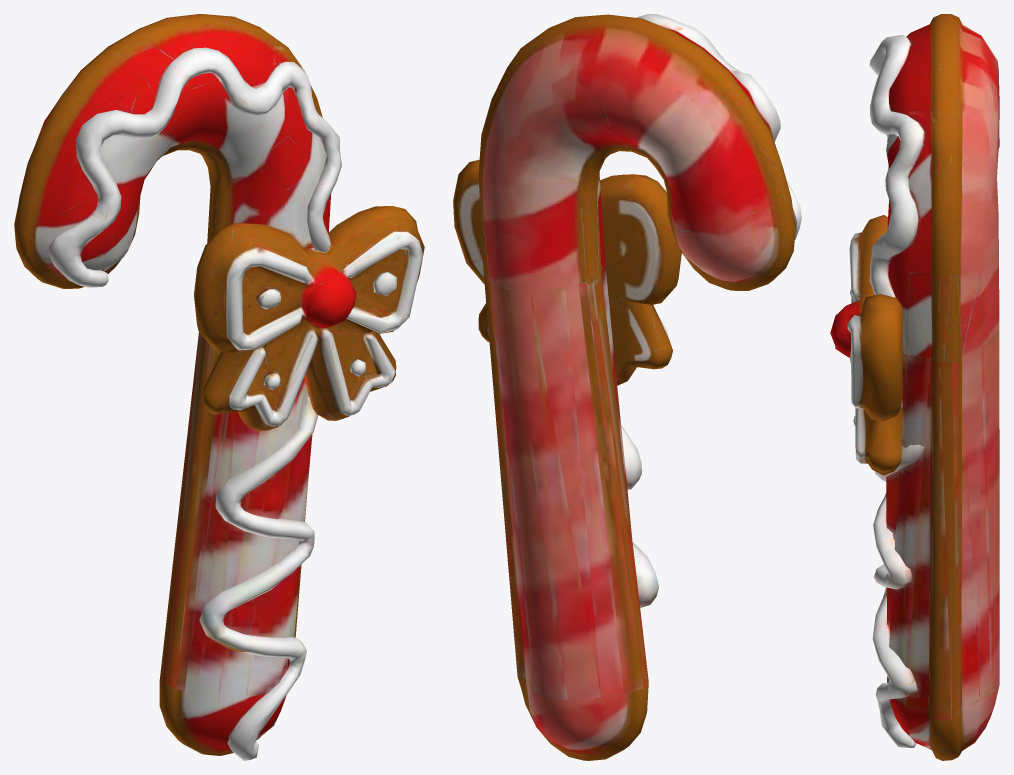
Rendered from cane.glb.
3 views of the same model, side by side, from view 1: azimuth 30°, elevation 25°; view 2: azimuth 150°, elevation 25°; view 3: azimuth 270°, elevation 25° (orthographic). The views are drawn at different scales.
Bounding box in the file's own units: 0.4936 × 0.9507 × 0.2075.
Materials: 1 (1 with a texture image).
